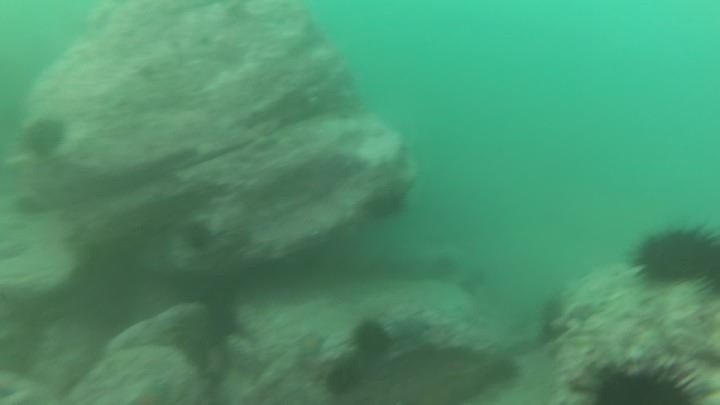echinus: (575, 348, 713, 404), (627, 219, 718, 292), (20, 114, 70, 161), (349, 317, 394, 360), (360, 187, 406, 224), (171, 215, 217, 252), (193, 306, 239, 343), (1, 186, 46, 223), (322, 359, 363, 399), (484, 355, 522, 389), (537, 294, 567, 328)
starfish: (385, 311, 434, 348), (561, 297, 607, 327), (291, 327, 330, 362), (126, 377, 175, 404)
